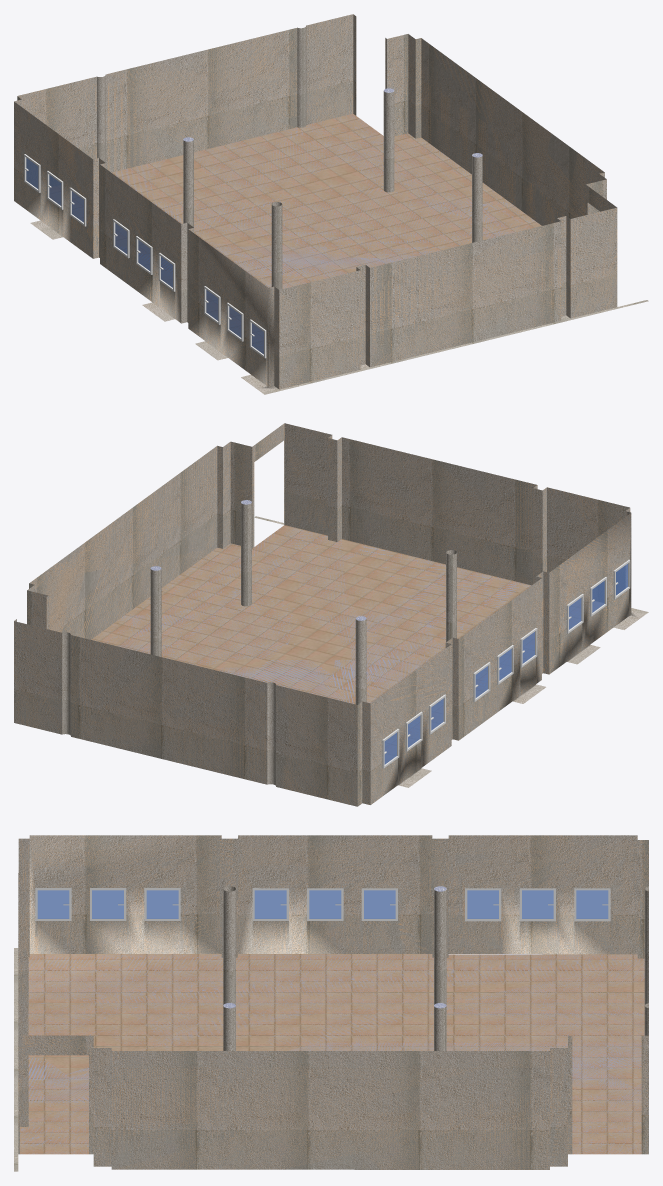
Rendered from AUL023.obj.
3 views of the same model, one above another, from view 1: azimuth 30°, elevation 25°; view 2: azimuth 150°, elevation 25°; view 3: azimuth 270°, elevation 25° (orthographic). The views are drawn at different scales.
Visible parts, largest first — view 1: Mesh28 AUL023 Model; view 2: Mesh28 AUL023 Model; view 3: Mesh28 AUL023 Model, Mesh13 ventana3_1_5 AUL023 Model, Mesh7 ventana3_1_3 AUL023 Model, Mesh22 ventana3_1_8 AUL023 Model, Mesh1 ventana3_1_1 AUL023 Model, Mesh4 ventana3_1_2 AUL023 Model, Mesh10 ventana3_1_4 AUL023 Model, Mesh16 ventana3_1_6 AUL023 Model, Mesh19 ventana3_1_7 AUL023 Model, Mesh25 ventana3_1_9 AUL023 Model.
Boxes of the visible parts, left/top/right/bottom form: Mesh28 AUL023 Model: left=14, top=14, right=648, bottom=394; Mesh28 AUL023 Model: left=14, top=423, right=648, bottom=806; Mesh28 AUL023 Model: left=14, top=835, right=648, bottom=1171; Mesh13 ventana3_1_5 AUL023 Model: left=574, top=888, right=610, bottom=921; Mesh7 ventana3_1_3 AUL023 Model: left=465, top=888, right=501, bottom=921; Mesh22 ventana3_1_8 AUL023 Model: left=519, top=888, right=555, bottom=921; Mesh1 ventana3_1_1 AUL023 Model: left=361, top=888, right=397, bottom=920; Mesh4 ventana3_1_2 AUL023 Model: left=144, top=888, right=180, bottom=920; Mesh10 ventana3_1_4 AUL023 Model: left=35, top=888, right=71, bottom=920; Mesh16 ventana3_1_6 AUL023 Model: left=90, top=888, right=126, bottom=920; Mesh19 ventana3_1_7 AUL023 Model: left=307, top=888, right=343, bottom=920; Mesh25 ventana3_1_9 AUL023 Model: left=252, top=888, right=288, bottom=920.
Size of the model in its own units: 14.54 by 3.6 by 17.45.
7 materials, 2 textured.
